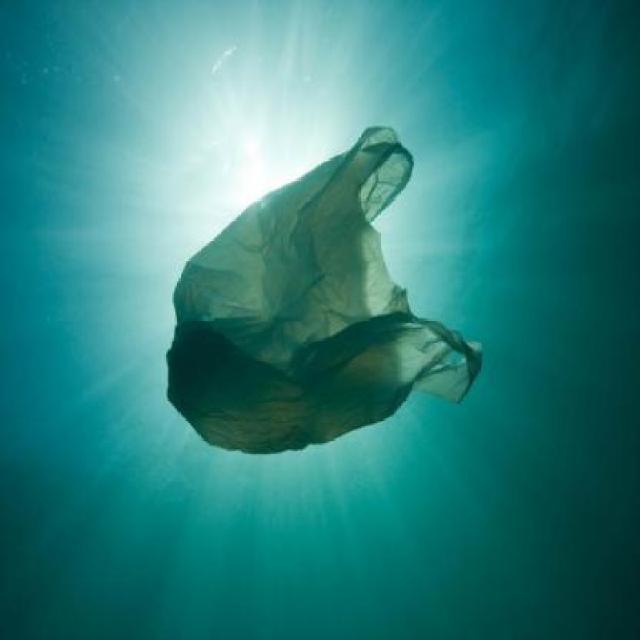plastic bag: (149, 115, 486, 474)
